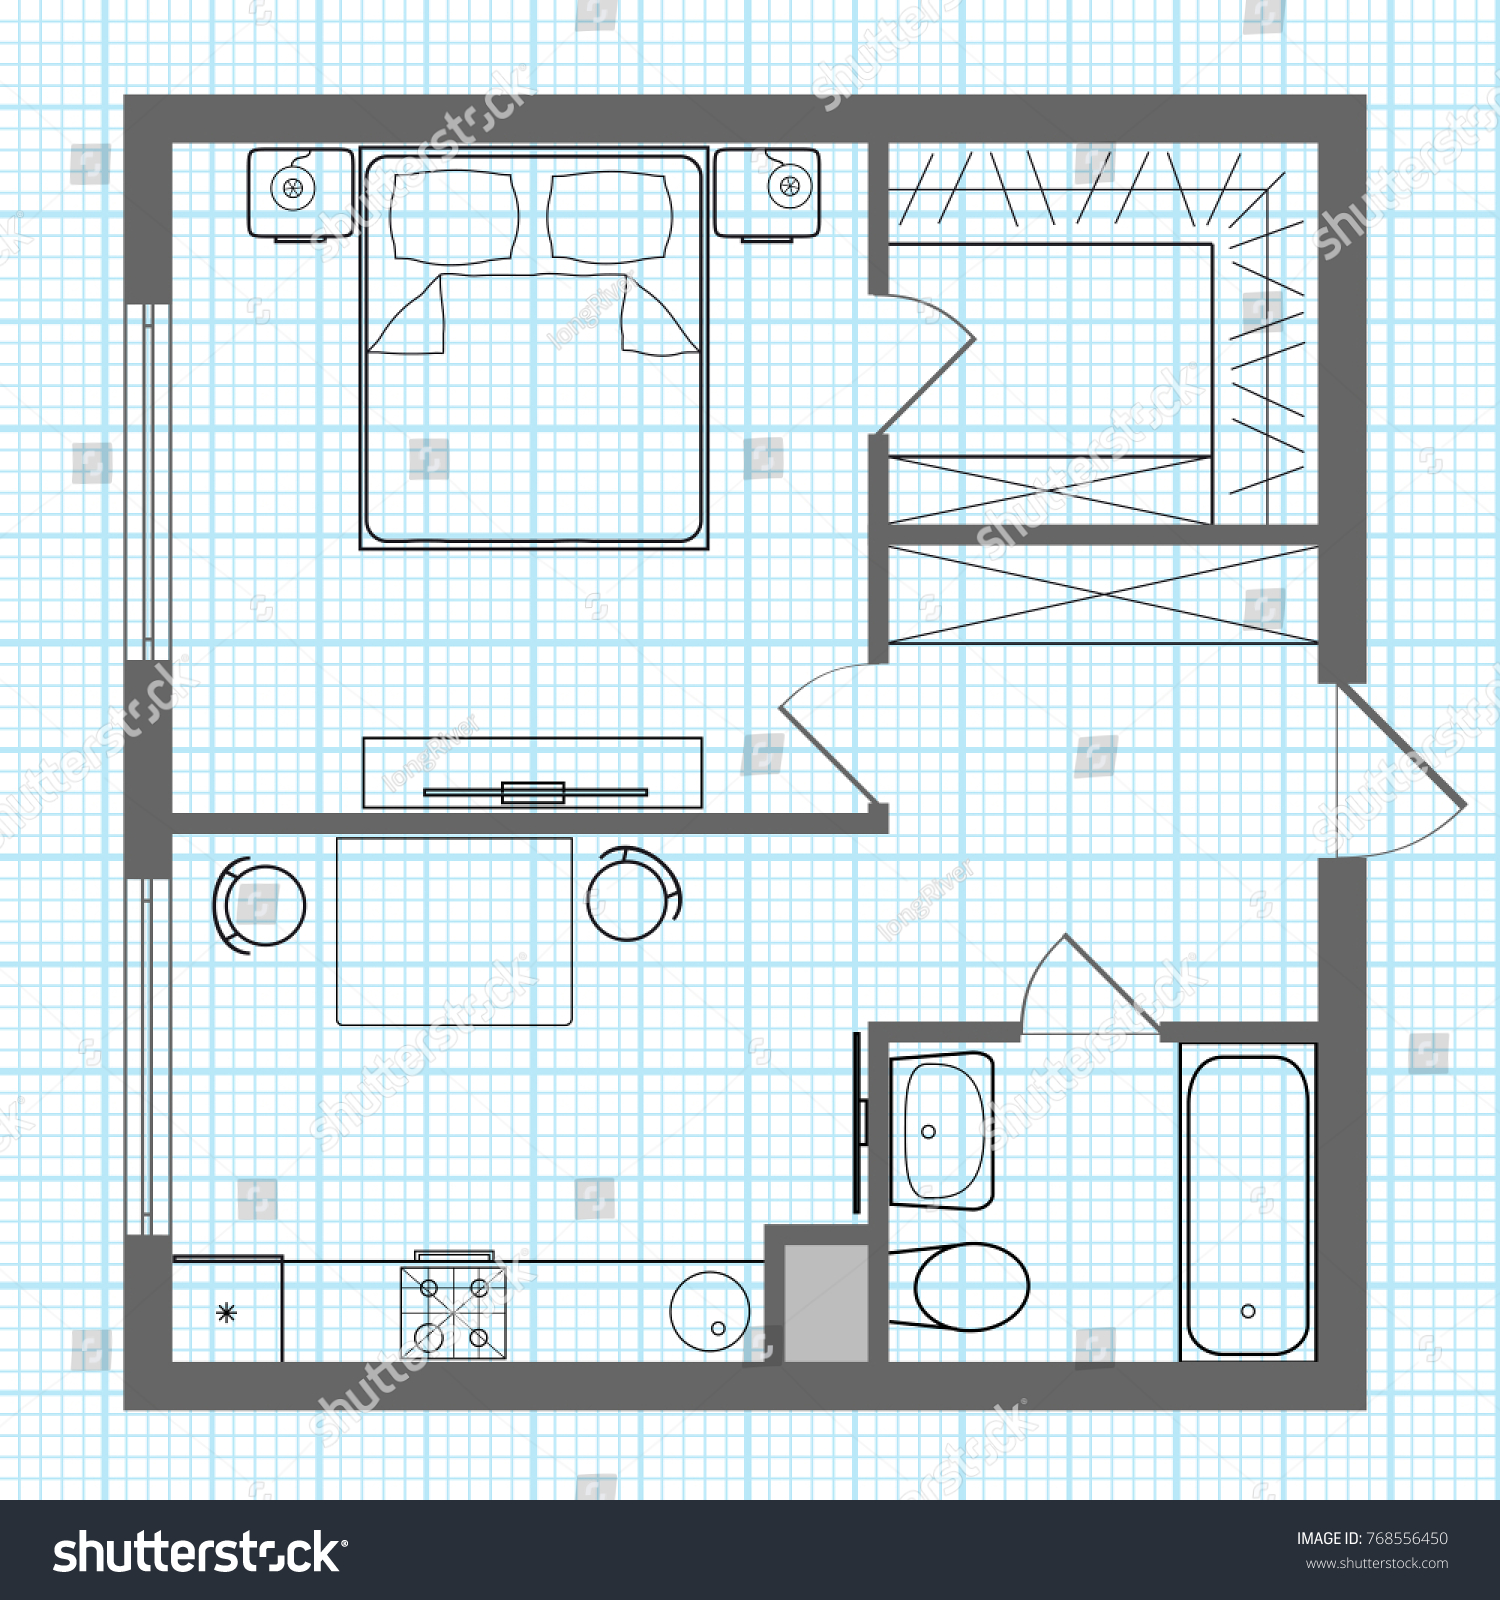room: (116, 97, 871, 836), (118, 804, 887, 1410), (873, 526, 1367, 1043), (866, 94, 1365, 543), (861, 1016, 1365, 1404)
